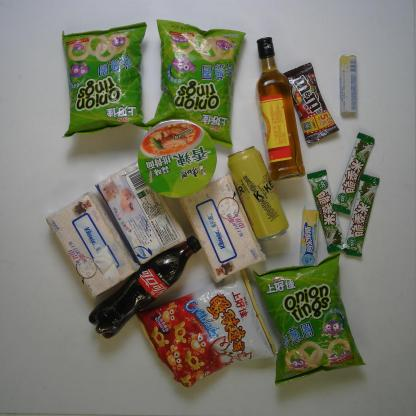Alcohol: (227, 146, 287, 242)
Candy: (337, 54, 359, 114), (300, 206, 320, 266)
Chocolate: (282, 61, 339, 146), (332, 133, 376, 215), (305, 166, 345, 253), (344, 173, 381, 257)
Drink: (87, 235, 201, 341)
Instant Noodles: (140, 118, 218, 198)
Puffed Food: (134, 268, 278, 385), (252, 253, 367, 383), (146, 17, 248, 146), (58, 22, 153, 138)
Seasoner: (256, 35, 306, 181)
Tissue: (44, 193, 140, 299), (94, 162, 186, 266), (180, 175, 266, 285)
